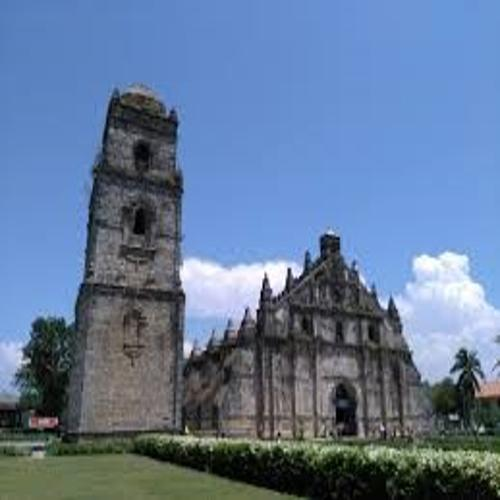Paoay Church: (60, 55, 435, 461)
